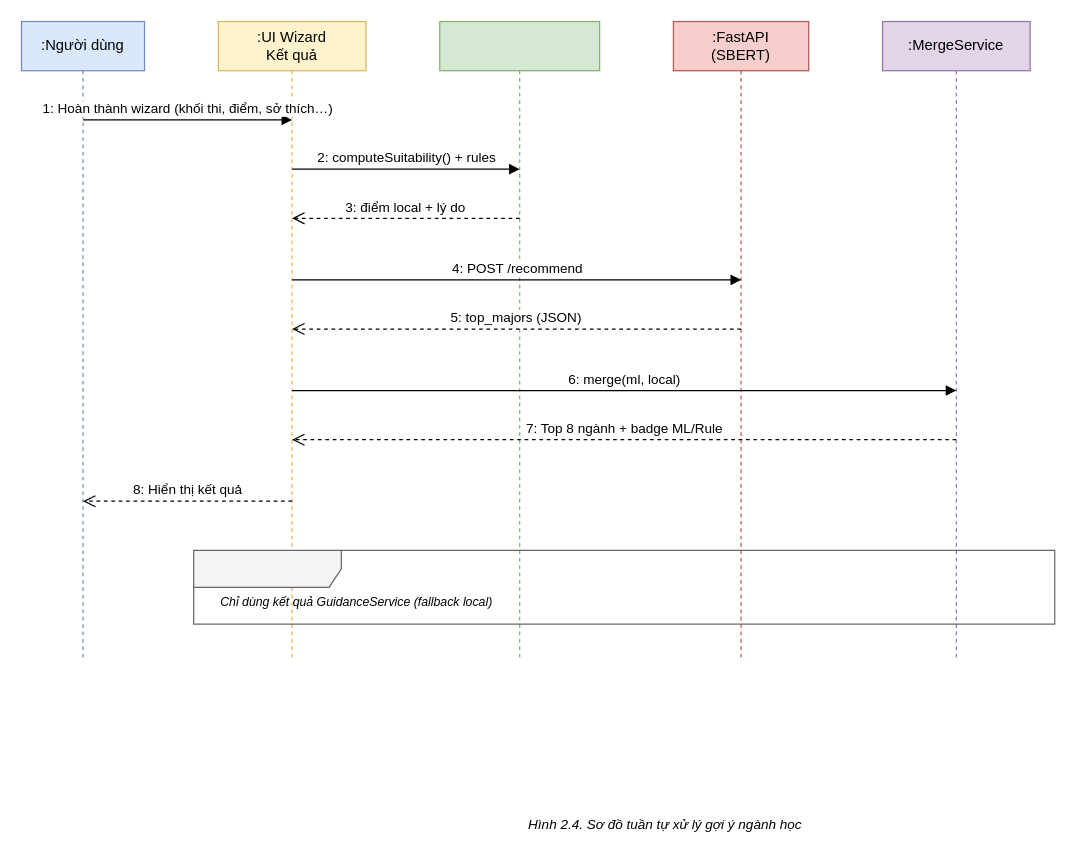
Image size: 1076x867. Some labels were removed from this diagram. The box of each missing label's shape, as (x1, y1, x2, y2) in pixels:
:GuidanceService: (438, 20, 600, 661)
alt [FastAPI lỗi / timeout]: (192, 549, 1055, 624)
